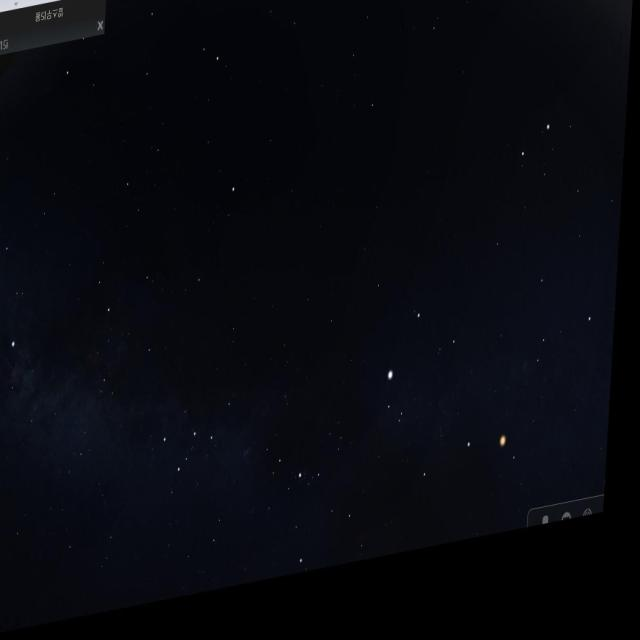cassiopeia: (148, 391, 244, 506)
